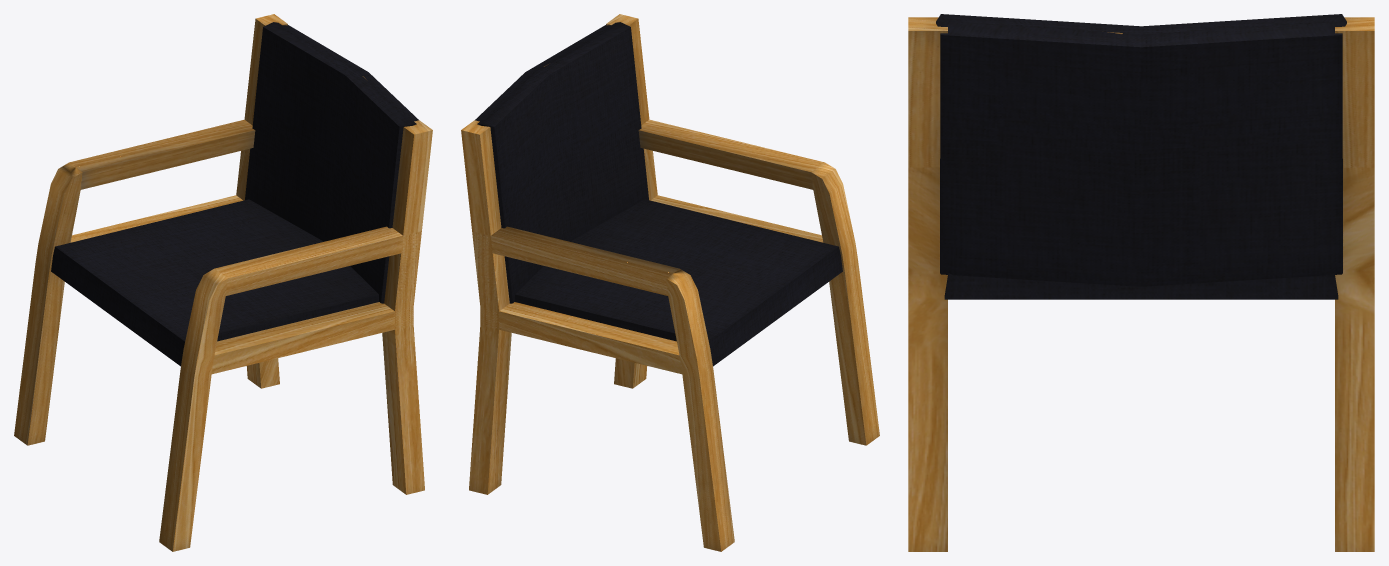
File: chair_02.fbx
3 renders of one model, left to right at view 1: azimuth 30°, elevation 25°; view 2: azimuth 150°, elevation 25°; view 3: azimuth 270°, elevation 25°, orthographic. The views are drawn at different scales.
Visible parts, largest first — view 1: chair_02; view 2: chair_02; view 3: chair_02.
Part boxes in pixels (x1=…): chair_02: x1=14, y1=14, x2=432, y2=551; chair_02: x1=461, y1=14, x2=879, y2=551; chair_02: x1=908, y1=14, x2=1374, y2=551.
Bounding box in the file's own units: 0.7631 × 0.9527 × 0.7617.
